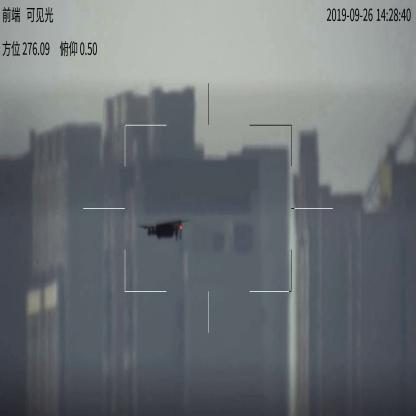uav: (138, 219, 192, 242)
